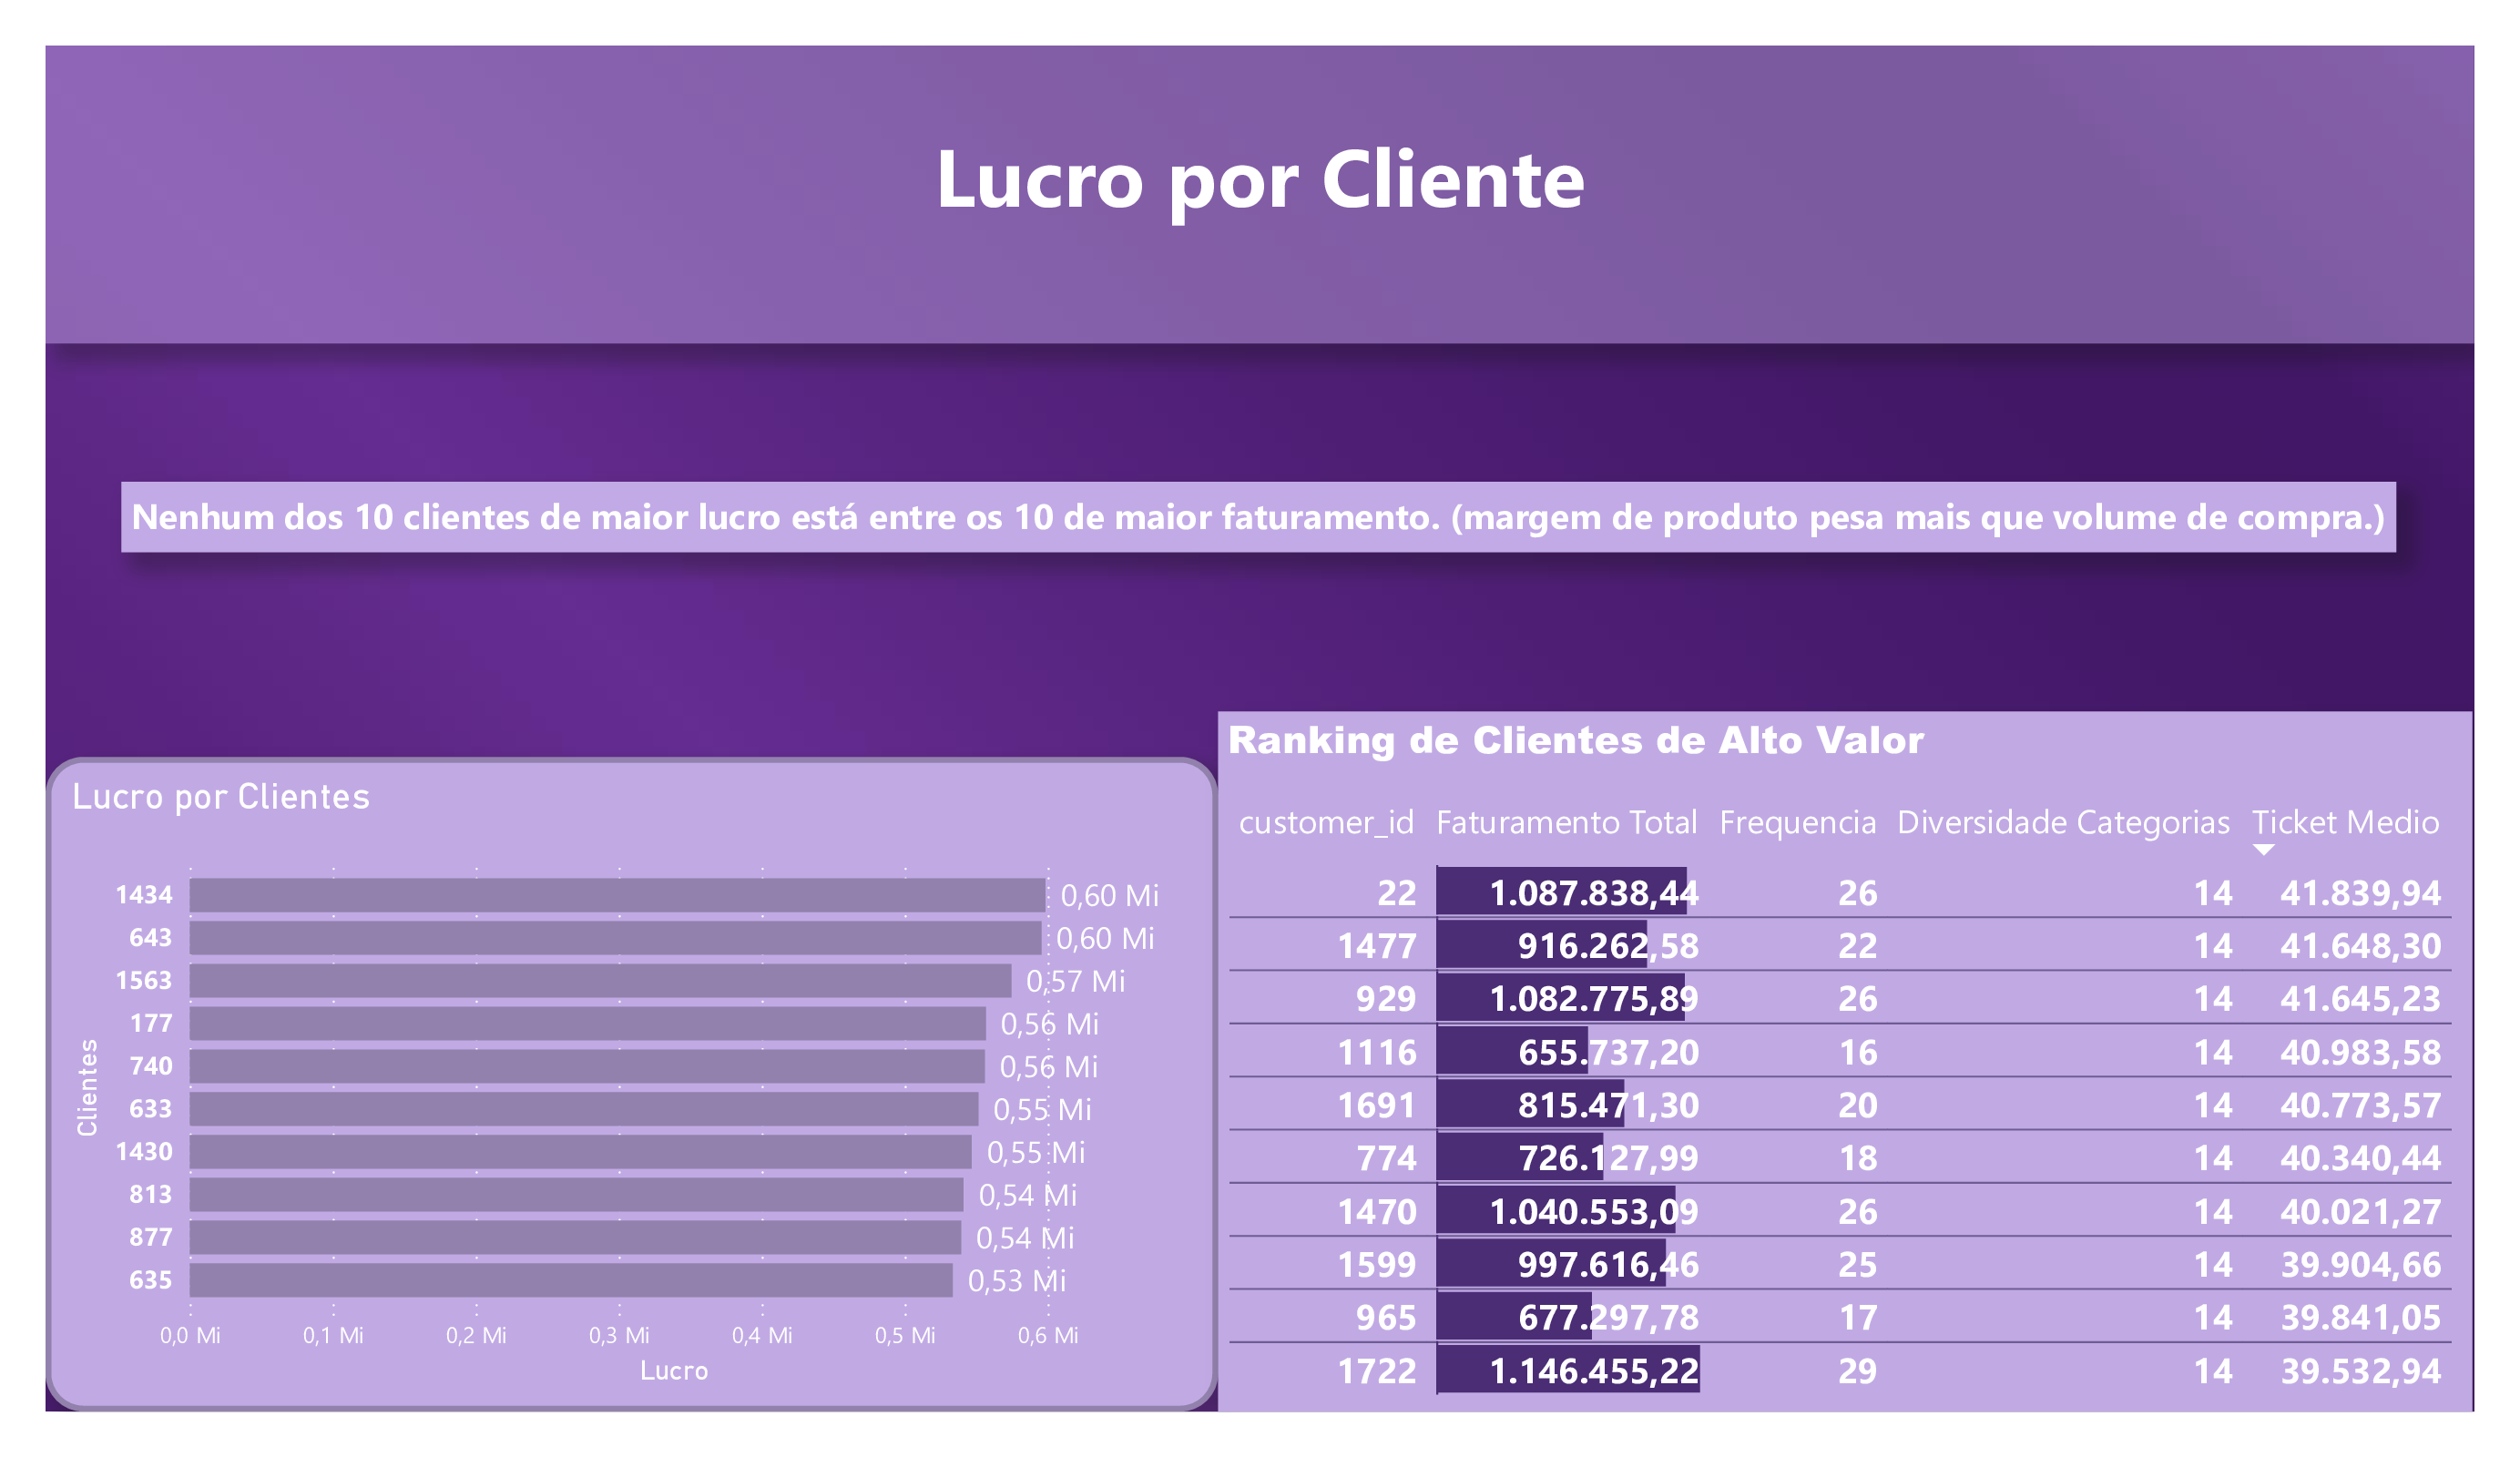

What the dashboard file says about the page in this screenshot:
{"tool":"powerbi","page":{"name":"Página 7","canvas":[1280,720],"ordinal":6},"visuals":[{"type":"textbox","box":[0,0,1280,157.2],"z":0},{"type":"clusteredBarChart","fields":{"Category":["Consulta2.customer_id"],"Y":["Sum(Consulta2.lucro_acumulado)"]},"box":[0,375,618,345],"z":1000},{"type":"textbox","box":[40,230,1199,37],"z":2000},{"type":"tableEx","title":"Ranking de Clientes de Alto Valor","fields":{"Values":["Clientes Elite.customer_id","Clientes Elite.Faturamento Total","Clientes Elite.Frequencia","Clientes Elite.Diversidade Categorias","Clientes Elite.Ticket Medio"]},"box":[618,351,661,369],"z":2001}]}

Visuals, with their boxes on the page's 1280x720 design canvas (x1, y1, x2, y2). These are canvas units, not pixel positions in the 2520x1457 screenshot, which may show the page scaled, cropped or inside an application window:
textbox: select_region(0, 0, 1280, 157)
clusteredBarChart - Consulta2.customer_id x Sum(Consulta2.lucro_acumulado): select_region(0, 375, 618, 720)
textbox: select_region(40, 230, 1239, 267)
"Ranking de Clientes de Alto Valor" tableEx: select_region(618, 351, 1279, 720)
